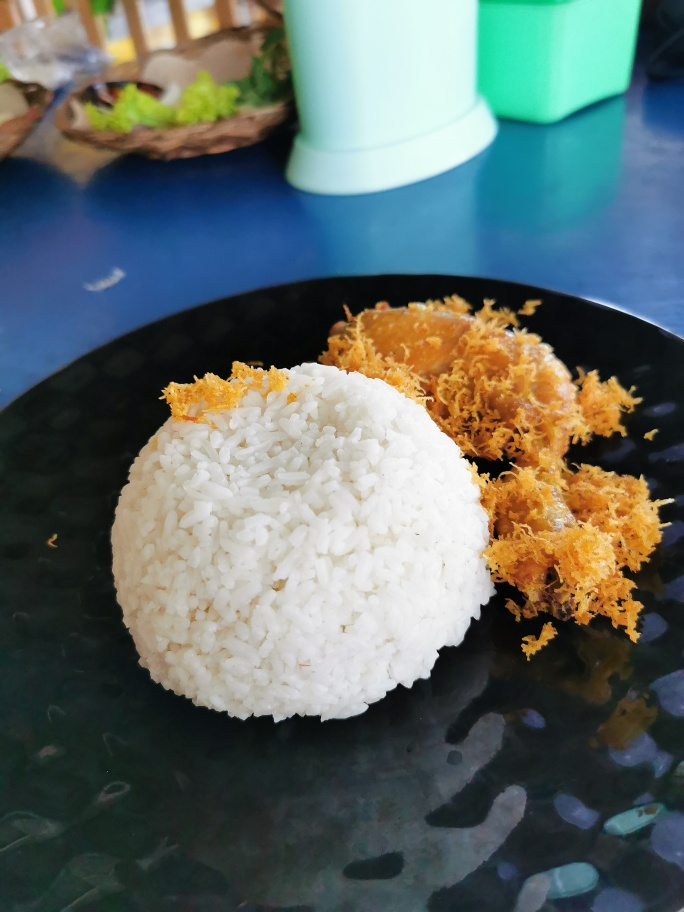ayam goreng: (324, 251, 650, 647)
nasi putih: (64, 384, 504, 742)
